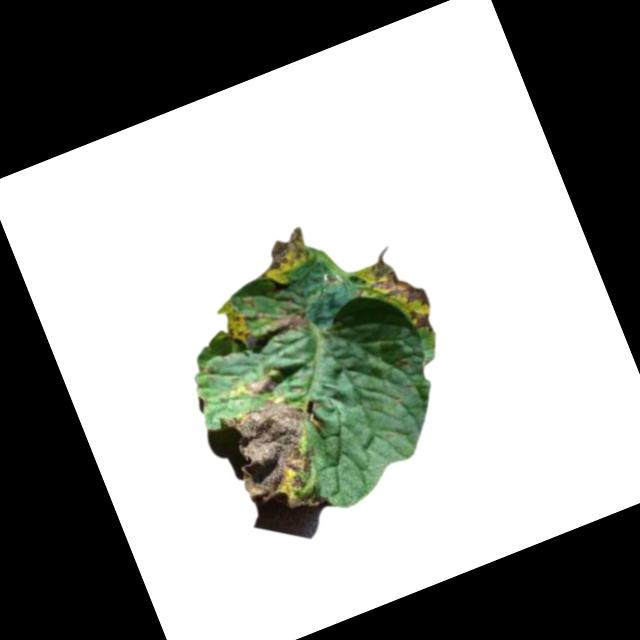Early_blight: (217, 388, 342, 530), (346, 249, 439, 349), (254, 223, 318, 284), (271, 303, 309, 341), (219, 305, 253, 346), (241, 371, 281, 401)
